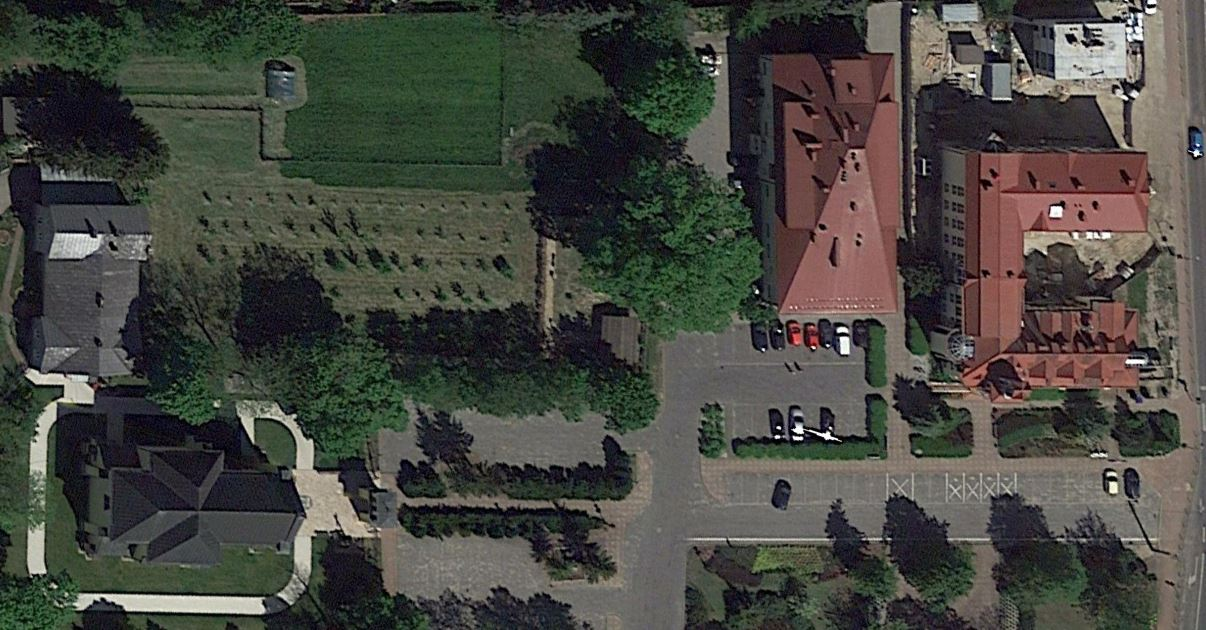block of flats: (926, 127, 1159, 416), (736, 38, 924, 328), (1017, 11, 1155, 94)
church: (73, 429, 321, 578)
family house: (26, 190, 164, 385)
